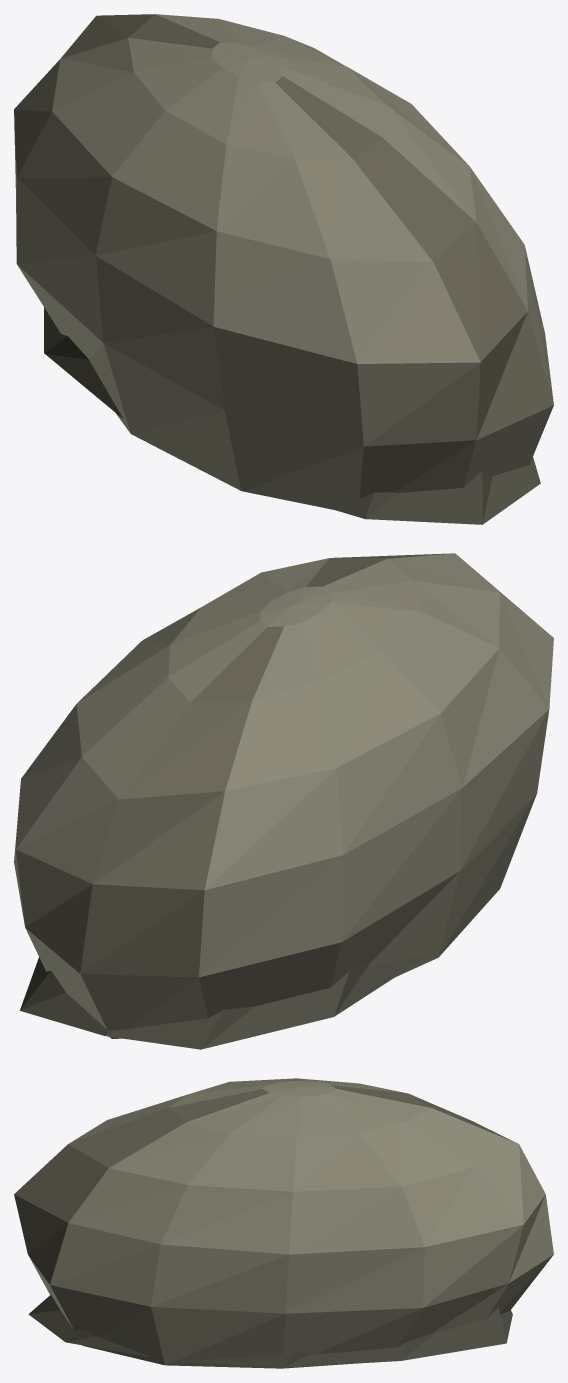
The model's file is cocoon_spelopede_2.obj.
3 renders of one model, top to bottom at view 1: azimuth 30°, elevation 25°; view 2: azimuth 150°, elevation 25°; view 3: azimuth 270°, elevation 25°, orthographic. The views are drawn at different scales.
Visible parts, largest first — view 1: cocoon_spelopede_2; view 2: cocoon_spelopede_2; view 3: cocoon_spelopede_2.
Boxes of the visible parts, left/top/right/bottom form: cocoon_spelopede_2: left=14, top=14, right=553, bottom=524; cocoon_spelopede_2: left=14, top=553, right=553, bottom=1049; cocoon_spelopede_2: left=14, top=1078, right=553, bottom=1368.
Bounding box in the file's own units: 0.4601 × 0.398 × 0.8762.
